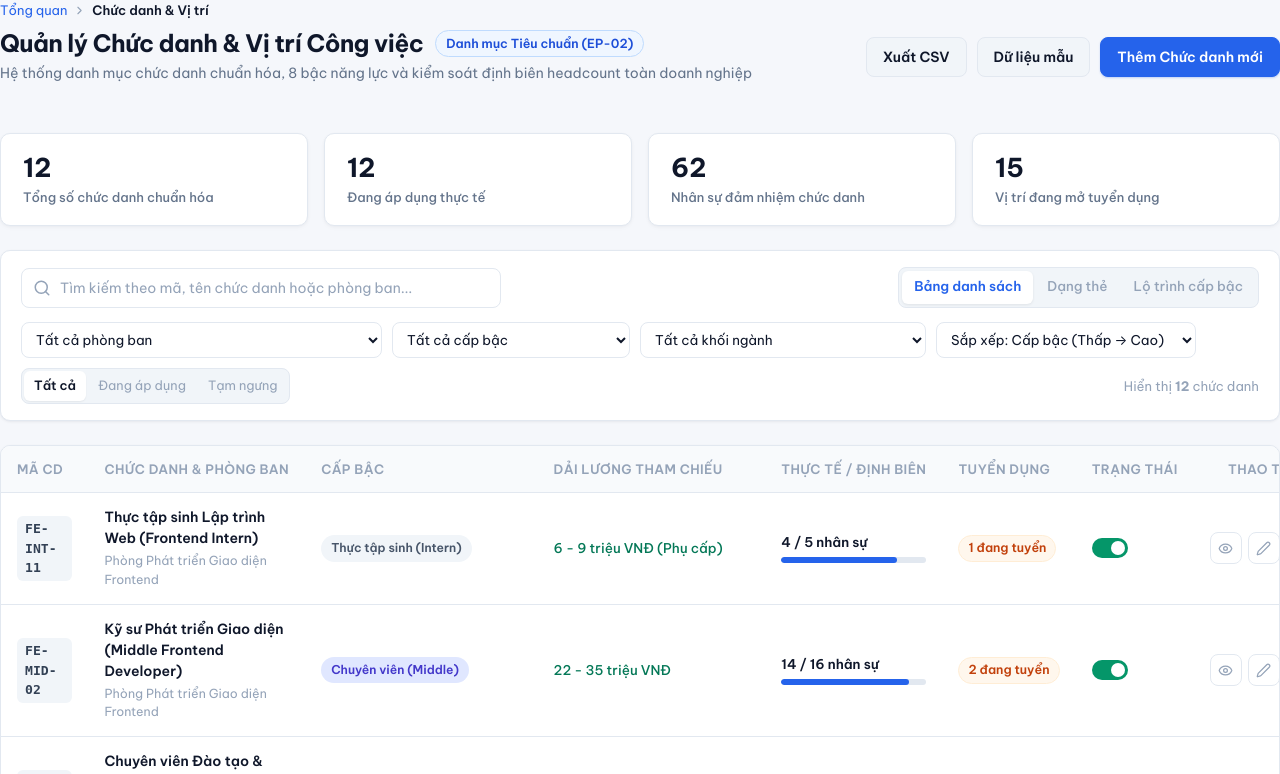
it: Job Title Management Page (Quản lý Chức danh & Vị trí - EP-02) › validates min salary not greater than max salary
Step 1. Click the button "Thêm Chức danh mới" → point(1190, 57), box left=1100, top=37, right=1279, bottom=77
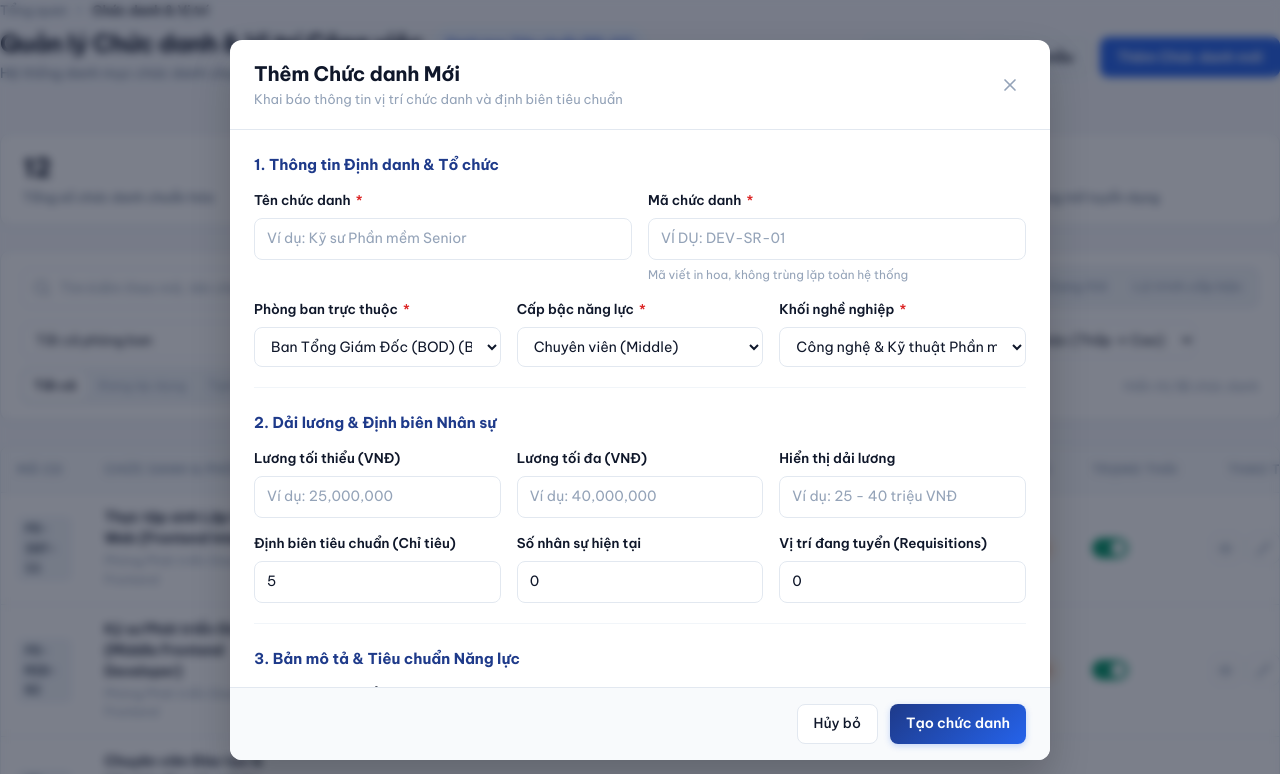
Step 2. Type "Tester" into the field labelled "Tên chức danh *" → point(443, 239), box left=254, top=218, right=632, bottom=260
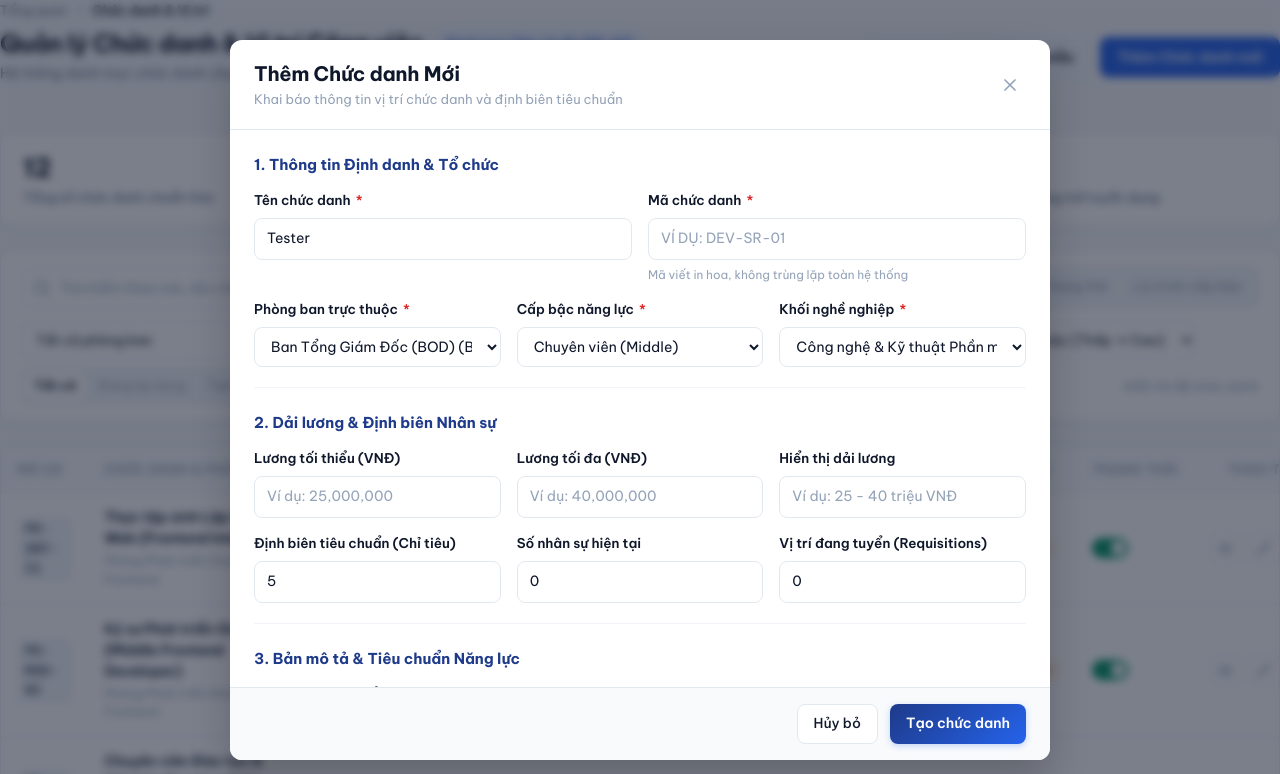
Step 3. Type "QC-TEST-01" into the field labelled "Mã chức danh *" → point(837, 239), box left=648, top=218, right=1026, bottom=260
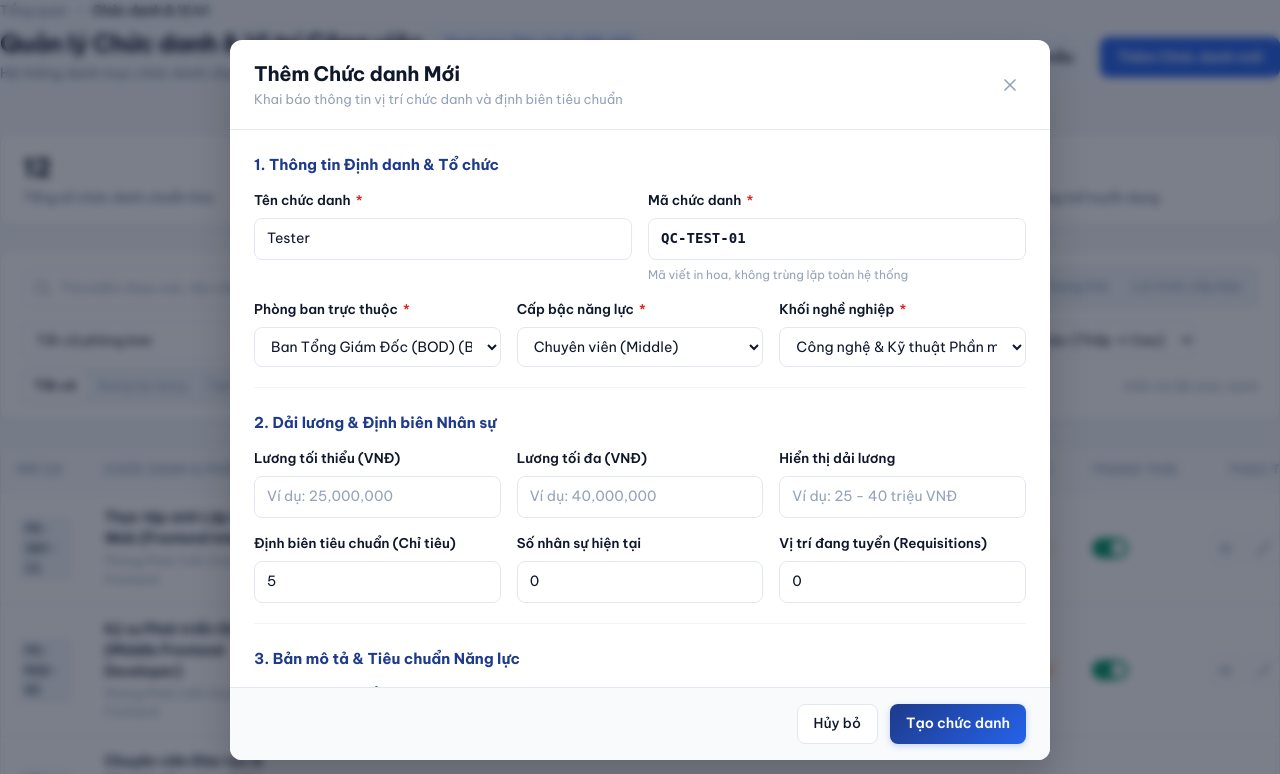
Step 4. Type "30000000" into the field labelled "Lương tối thiểu (VNĐ)" → point(377, 497), box left=254, top=476, right=501, bottom=518
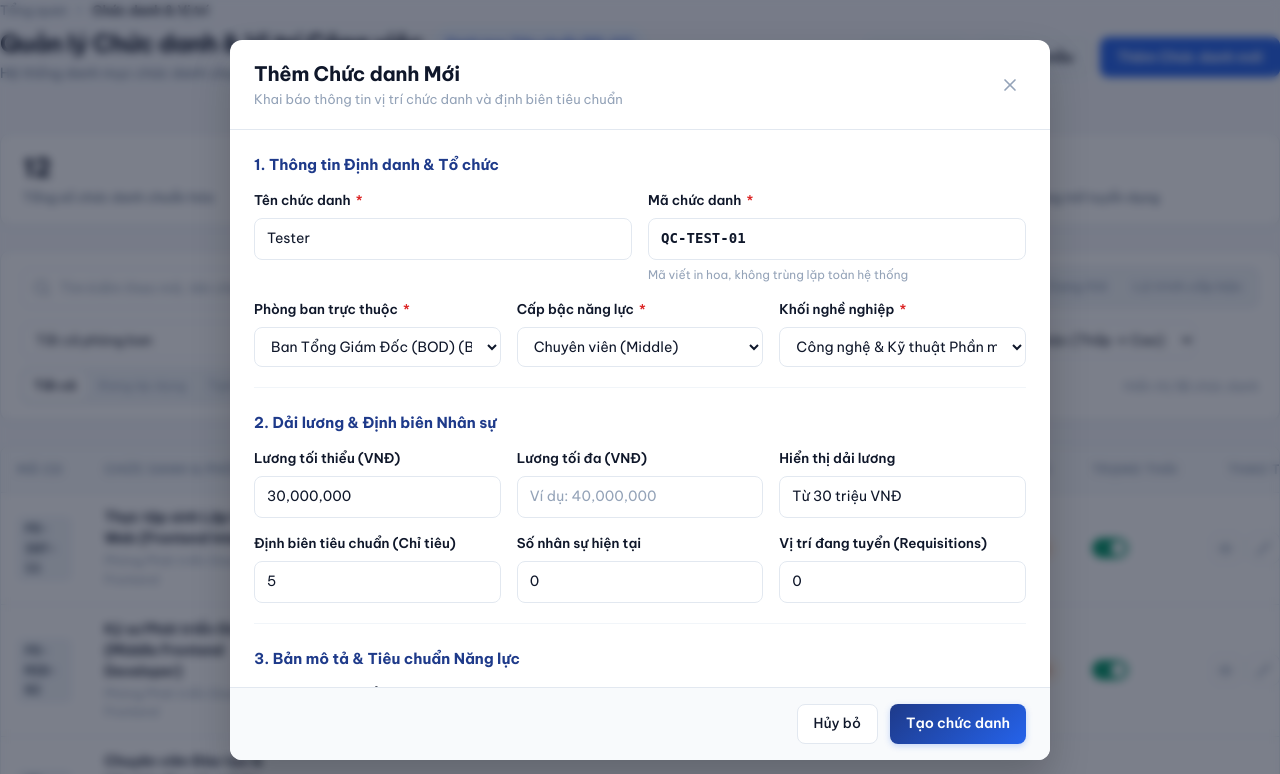
Step 5. Type "20000000" into the field labelled "Lương tối đa (VNĐ)" → point(640, 497), box left=517, top=476, right=763, bottom=518
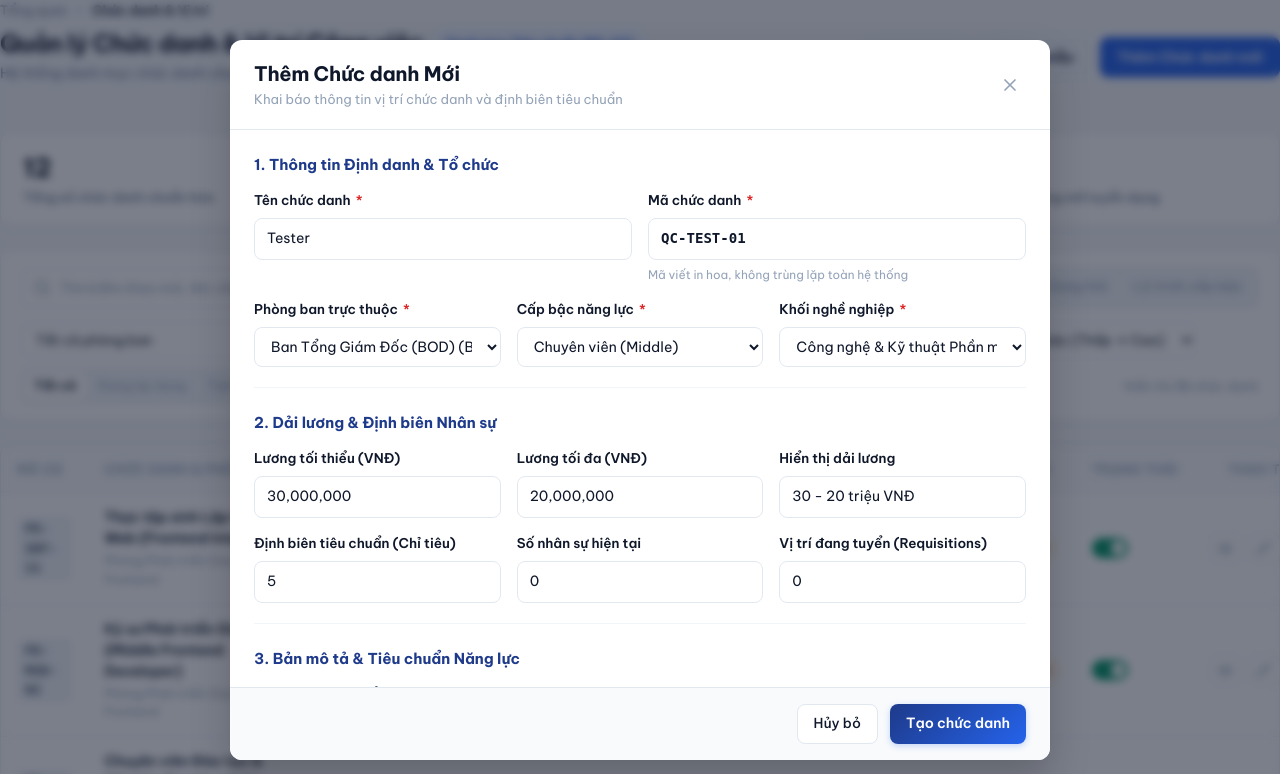
Step 6. Click the button "Tạo chức danh" → point(958, 724), box left=890, top=704, right=1026, bottom=744
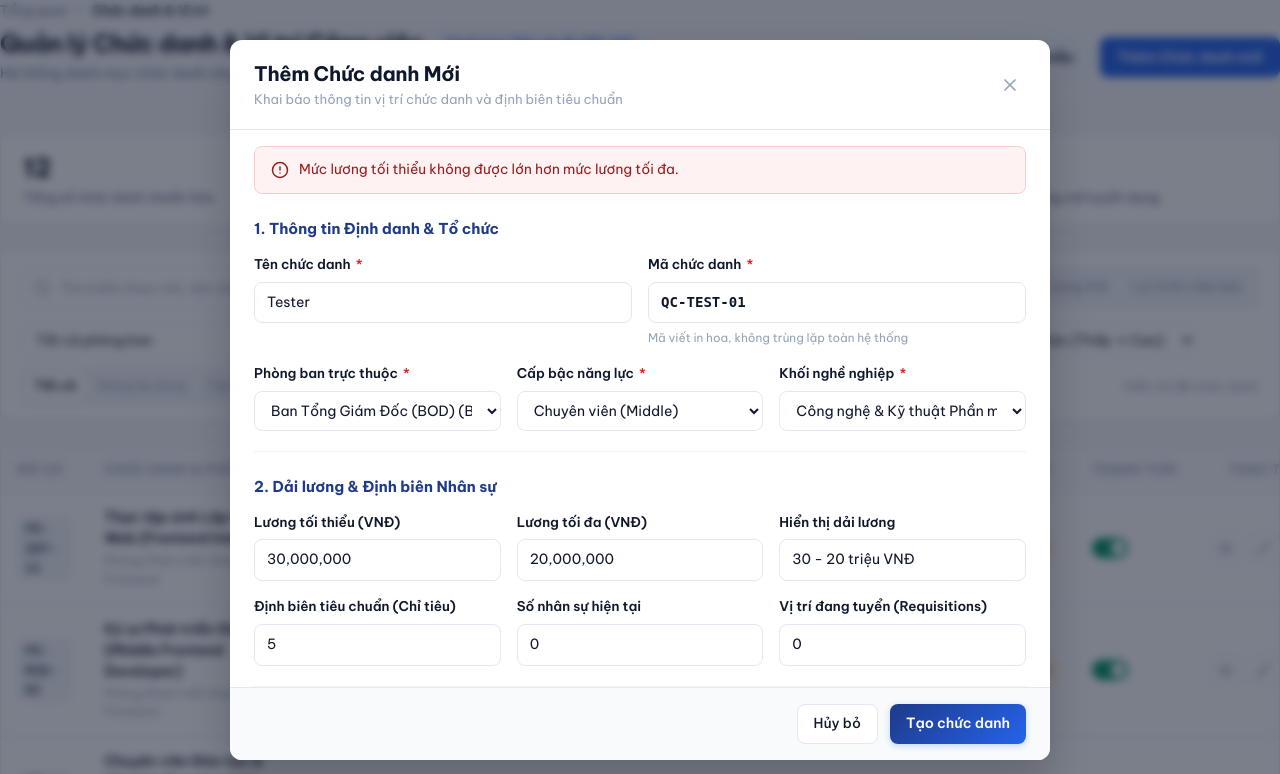
Now the text "Mức lương tối thiểu không được lớn hơn mức lương tối đa." is shown, box left=299, top=159, right=679, bottom=181
